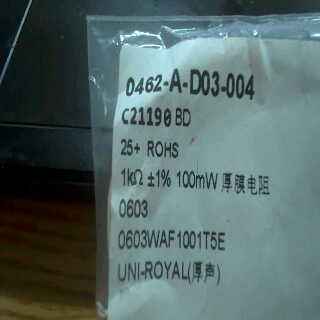1kR: (118, 164, 144, 188)
